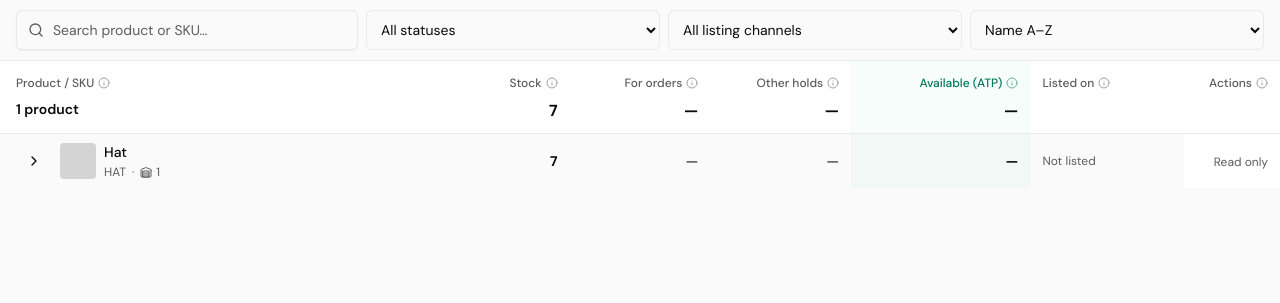
Test: warehouse table › shows related warehouses including zero and hides unrelated locations
The image size is (1280, 303).
Click the button named "Expand Hat". click: (34, 161)
box: top-left (16, 143), bottom-right (52, 179)
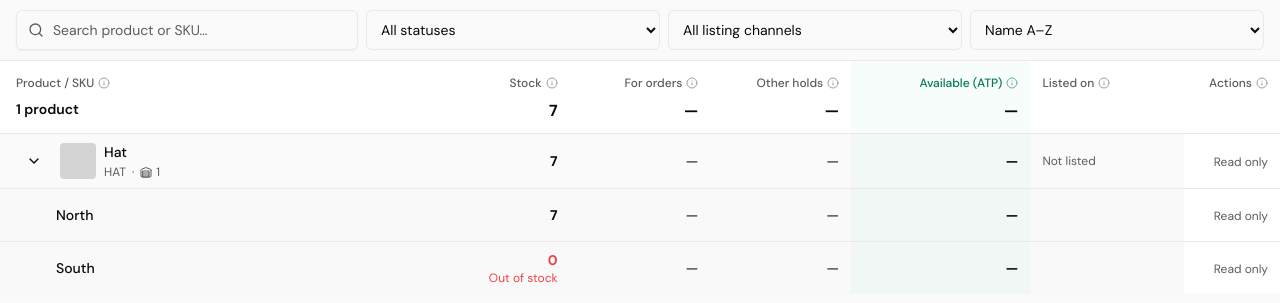
expect the text "North" is shown: met, box top-left (56, 206), bottom-right (94, 224)
expect the text "South" is shown: met, box top-left (56, 259), bottom-right (95, 277)
expect the text "Out of stock" is shown: met, box top-left (489, 270), bottom-right (558, 286)
